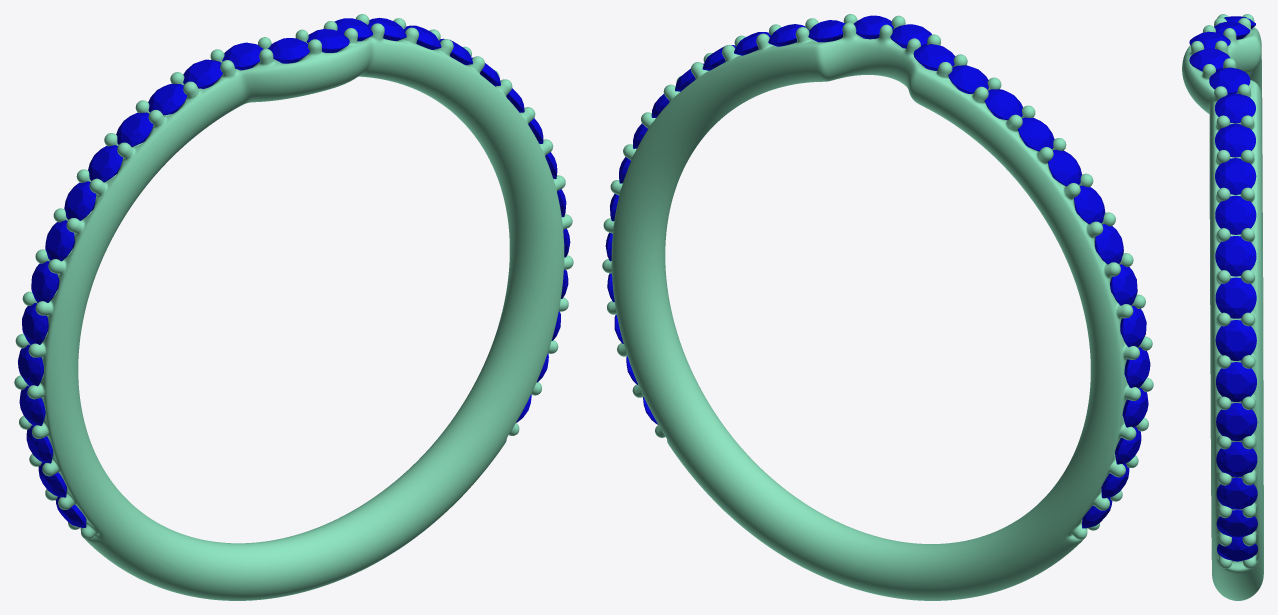
The picture shows the model from 3 angles, left to right: view 1: azimuth 30°, elevation 25°; view 2: azimuth 150°, elevation 25°; view 3: azimuth 270°, elevation 25°; orthographic projection. The views are drawn at different scales.
Parts seen in each view (by area): view 1: Metal03, Diamond_Band.010, Diamond_Band.009, Diamond_Band.011, Diamond_Band.008, Diamond_Band.012, Diamond_Band.007, Diamond_Band.013, Diamond_Band.006, Diamond_Band.015, Diamond_Band.014, Diamond_Band.005; view 2: Metal03, Diamond_Band.010, Diamond_Band.009, Diamond_Band.011, Diamond_Band.008, Diamond_Band.012, Diamond_Band.007, Diamond_Band.013, Diamond_Band.006, Diamond_Band.014, Diamond_Band.005; view 3: Metal03, Diamond_Band.022, Diamond_Band.023, Diamond_Band.021, Diamond_Band.024, Diamond_Band.020, Diamond_Band.025, Diamond_Band.019, Diamond_Band.026, Diamond_Band.018, Diamond_Band.027, Diamond_Band.017 (+7 smaller).
Part boxes in pixels (x1,y1,x2,y2): Metal03: (14, 14, 573, 600); Diamond_Band.010: (88, 145, 122, 182); Diamond_Band.009: (64, 181, 96, 220); Diamond_Band.011: (116, 112, 153, 146); Diamond_Band.008: (45, 220, 74, 261); Diamond_Band.012: (148, 84, 187, 115); Diamond_Band.007: (31, 261, 59, 302); Diamond_Band.013: (183, 59, 222, 88); Diamond_Band.006: (22, 303, 48, 344); Diamond_Band.015: (267, 38, 309, 63); Diamond_Band.014: (222, 42, 263, 70); Diamond_Band.005: (18, 344, 43, 386); Metal03: (602, 14, 1153, 600); Diamond_Band.010: (1047, 149, 1081, 186); Diamond_Band.009: (1074, 185, 1105, 224); Diamond_Band.011: (1017, 117, 1054, 151); Diamond_Band.008: (1094, 224, 1123, 264); Diamond_Band.012: (984, 89, 1022, 120); Diamond_Band.007: (1110, 264, 1137, 305); Diamond_Band.013: (948, 65, 988, 93); Diamond_Band.006: (1120, 305, 1146, 347); Diamond_Band.014: (913, 44, 955, 70); Diamond_Band.005: (1124, 347, 1150, 388); Metal03: (1182, 14, 1263, 600); Diamond_Band.022: (1215, 277, 1256, 318); Diamond_Band.023: (1215, 320, 1256, 360); Diamond_Band.021: (1215, 236, 1256, 276); Diamond_Band.024: (1216, 362, 1256, 401); Diamond_Band.020: (1215, 195, 1256, 234); Diamond_Band.025: (1216, 403, 1257, 441); Diamond_Band.019: (1215, 158, 1256, 194); Diamond_Band.026: (1216, 441, 1257, 477); Diamond_Band.018: (1215, 123, 1255, 157); Diamond_Band.027: (1216, 477, 1257, 509); Diamond_Band.017: (1215, 93, 1255, 123).
Bounding box in the file's own units: 21.48 × 21.41 × 2.98.
